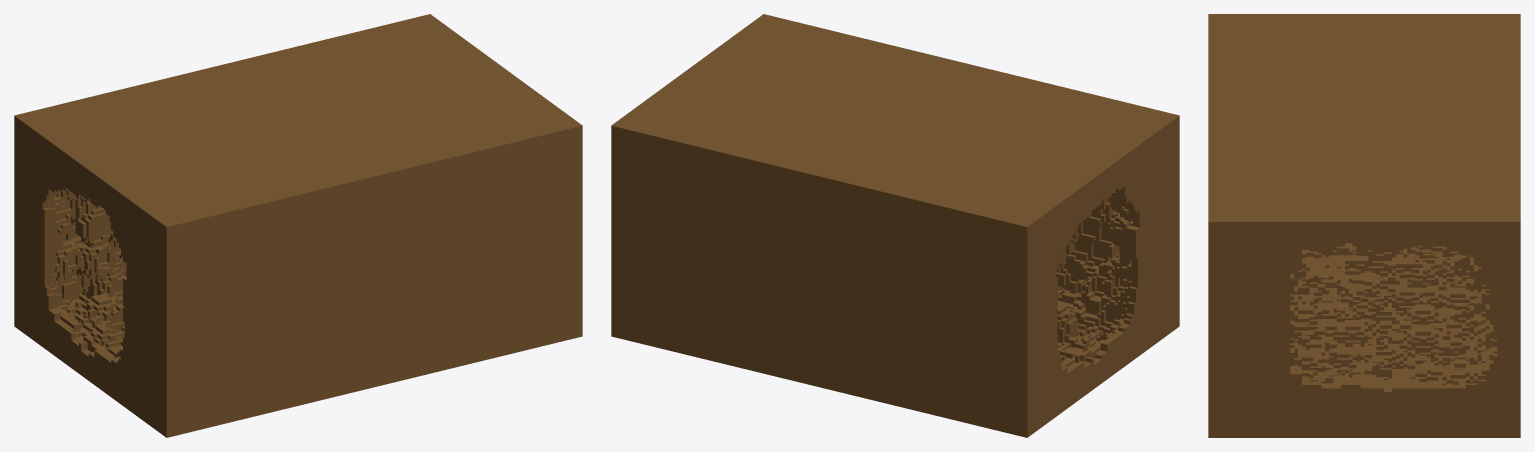
The model's file is Level 1 template.obj.
The picture shows the model from 3 angles, left to right: view 1: azimuth 30°, elevation 25°; view 2: azimuth 150°, elevation 25°; view 3: azimuth 270°, elevation 25°; orthographic projection. The views are drawn at different scales.
Bounding box in the file's own units: 126 × 61 × 80.
1 material, 1 textured.
